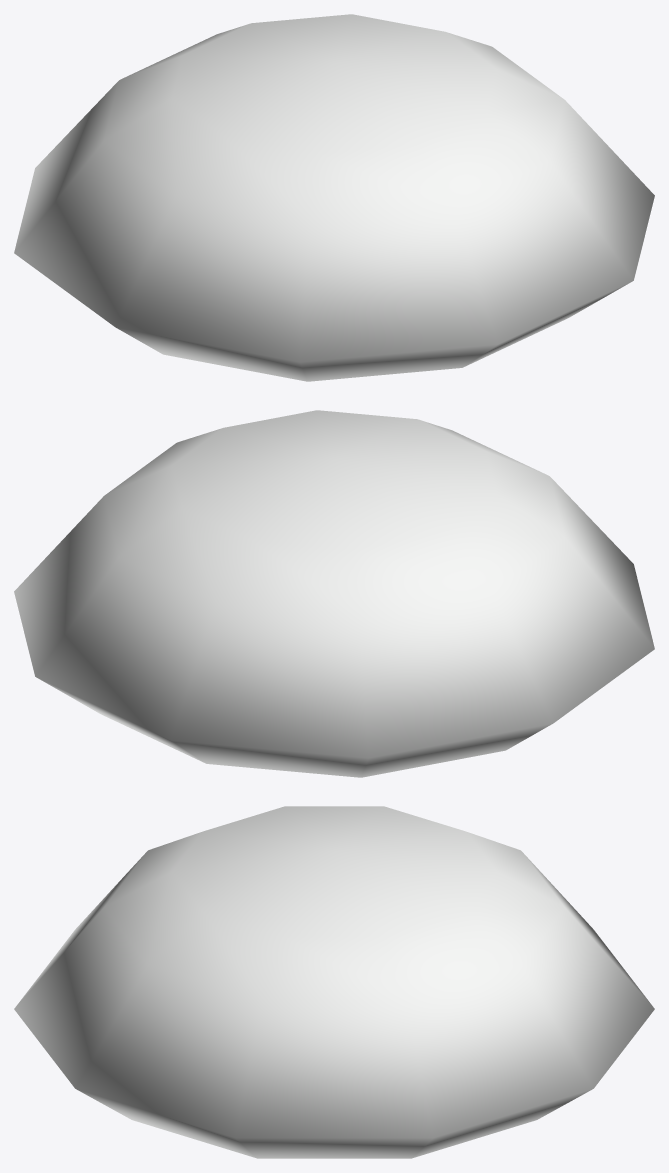
Rendered from Cloud_Blue_env.FBX.
The picture shows the model from 3 angles, top to bottom: view 1: azimuth 30°, elevation 25°; view 2: azimuth 150°, elevation 25°; view 3: azimuth 270°, elevation 25°; orthographic projection. The views are drawn at different scales.
Parts seen in each view (by area): view 1: sky dome; view 2: sky dome; view 3: sky dome.
Boxes of the visible parts, x1,y1,x2,y2 form: sky dome: [14, 14, 654, 381]; sky dome: [14, 410, 654, 777]; sky dome: [14, 806, 654, 1158].
Size of the model in its own units: 60093 by 28340 by 63185.
